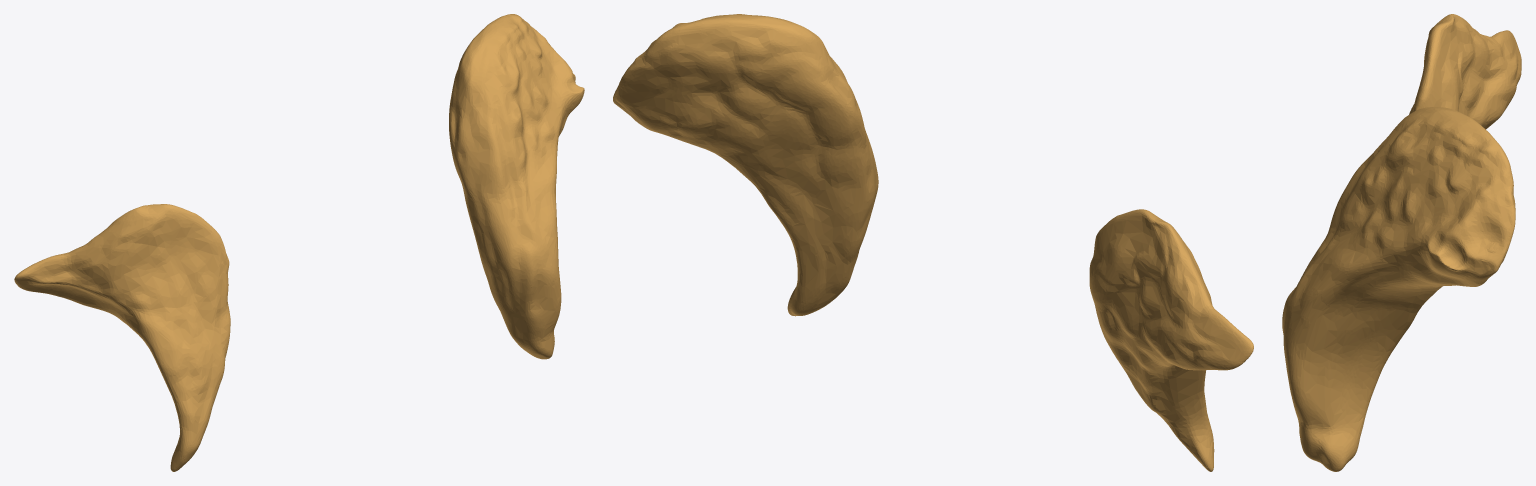
Rendered from adrenal.glb.
The picture shows the model from 3 angles, left to right: view 1: azimuth 30°, elevation 25°; view 2: azimuth 150°, elevation 25°; view 3: azimuth 270°, elevation 25°; orthographic projection. The views are drawn at different scales.
Visible parts, largest first — view 1: adrenal; view 2: adrenal; view 3: adrenal.
Part boxes in pixels (box(x1,y1,x2,y2)): adrenal: box(14, 14, 584, 471); adrenal: box(613, 14, 1253, 471); adrenal: box(1282, 14, 1521, 471).
Size of the model in its own units: 108 by 61.95 by 33.96.
